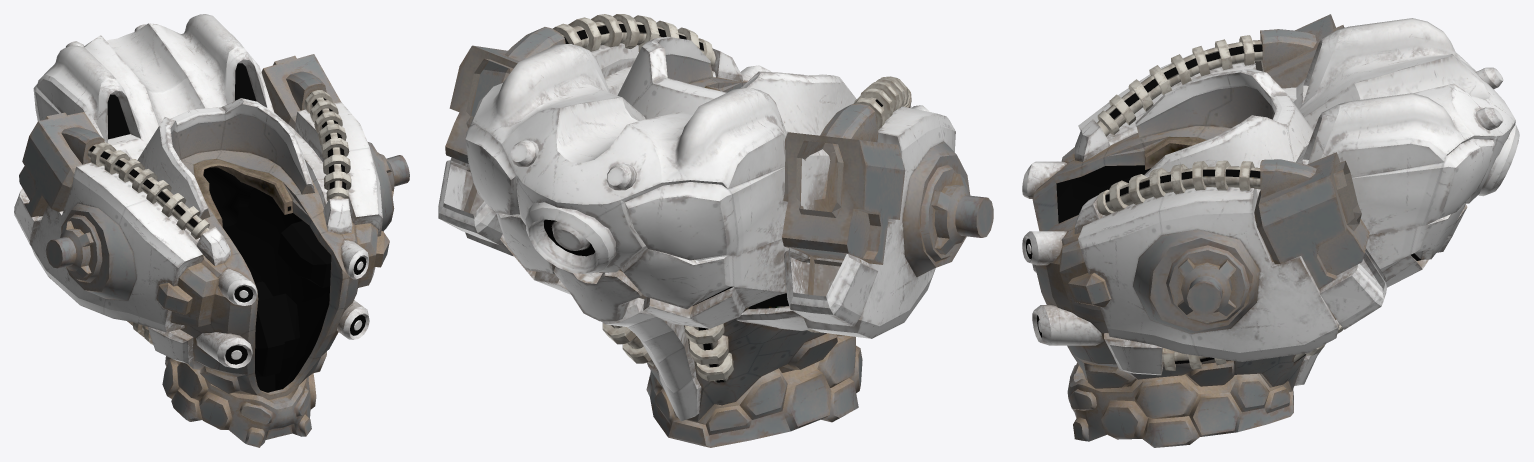
Rendered from Prototype.obj.
3 renders of one model, left to right at view 1: azimuth 30°, elevation 25°; view 2: azimuth 150°, elevation 25°; view 3: azimuth 270°, elevation 25°, orthographic. The views are drawn at different scales.
Visible parts, largest first — view 1: Body; view 2: Body; view 3: Body.
Boxes of the visible parts, bbox=[...] form: Body: bbox=[14, 14, 409, 447]; Body: bbox=[438, 14, 993, 447]; Body: bbox=[1022, 14, 1519, 447].
Size of the model in its own units: 78.67 by 66.3 by 80.36.
